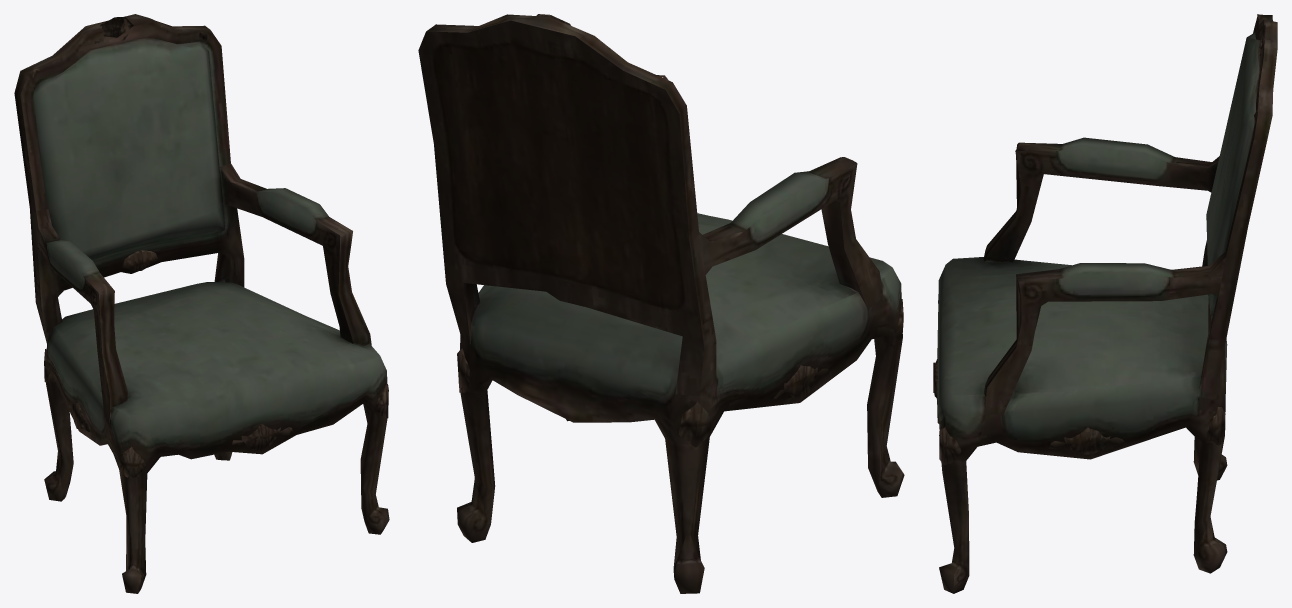
Rendered from green_chair.glb.
3 renders of one model, left to right at view 1: azimuth 30°, elevation 25°; view 2: azimuth 150°, elevation 25°; view 3: azimuth 270°, elevation 25°, orthographic. The views are drawn at different scales.
Visible parts, largest first — view 1: green_chair; view 2: green_chair; view 3: green_chair.
Boxes of the visible parts, box(x1,y1,x2,y2) form: green_chair: box(14, 14, 389, 593); green_chair: box(418, 14, 904, 593); green_chair: box(933, 14, 1277, 593).
Bounding box in the file's own units: 0.6687 × 1.06 × 0.6643.
1 material, 1 textured.
